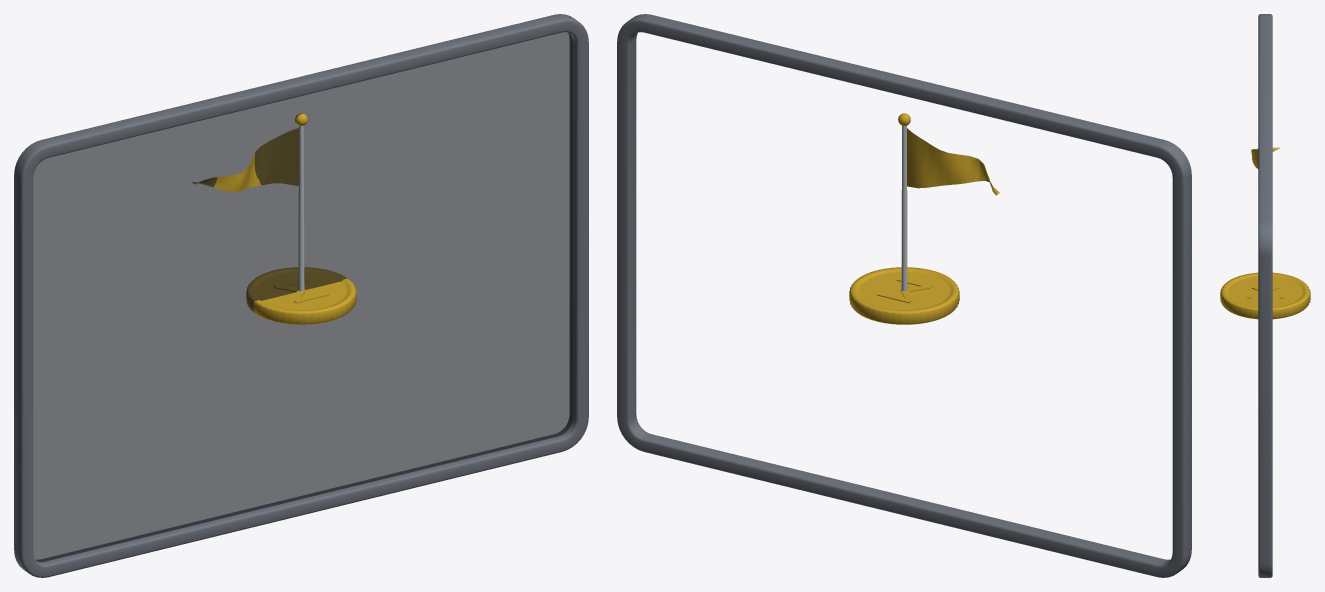
Rendered from financeiro.glb.
The picture shows the model from 3 angles, left to right: view 1: azimuth 30°, elevation 25°; view 2: azimuth 150°, elevation 25°; view 3: azimuth 270°, elevation 25°; orthographic projection. The views are drawn at different scales.
Parts seen in each view (by area): view 1: Glass, Frame, Coin, Pennant, Pole; view 2: Frame, Coin, Pennant, Pole; view 3: Frame, Coin, Pennant.
Part boxes in pixels (x1,y1,x2,y2): Glass: [33, 32, 572, 561]; Frame: [14, 14, 588, 577]; Coin: [246, 267, 356, 324]; Pennant: [192, 128, 298, 192]; Pole: [298, 125, 304, 291]; Frame: [617, 14, 1191, 577]; Coin: [849, 267, 959, 324]; Pennant: [907, 128, 999, 195]; Pole: [901, 125, 907, 291]; Frame: [1258, 14, 1272, 577]; Coin: [1220, 272, 1310, 319]; Pennant: [1251, 147, 1279, 168].
Size of the model in its own units: 0.1726 by 0.1256 by 0.029.
